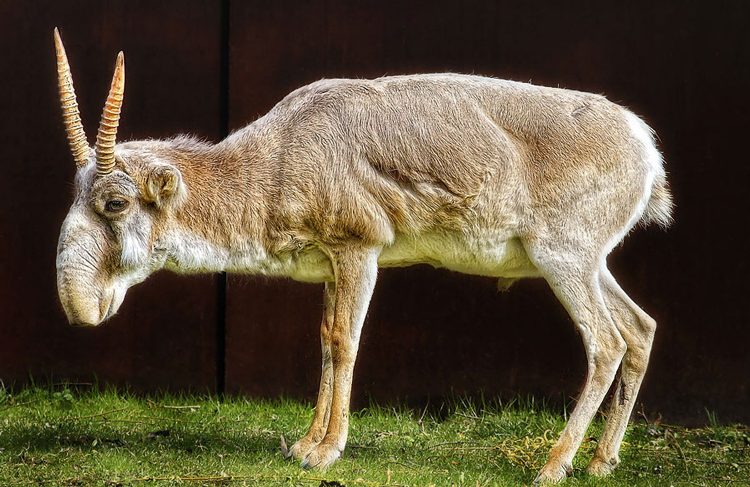saiga: (45, 26, 668, 487)
